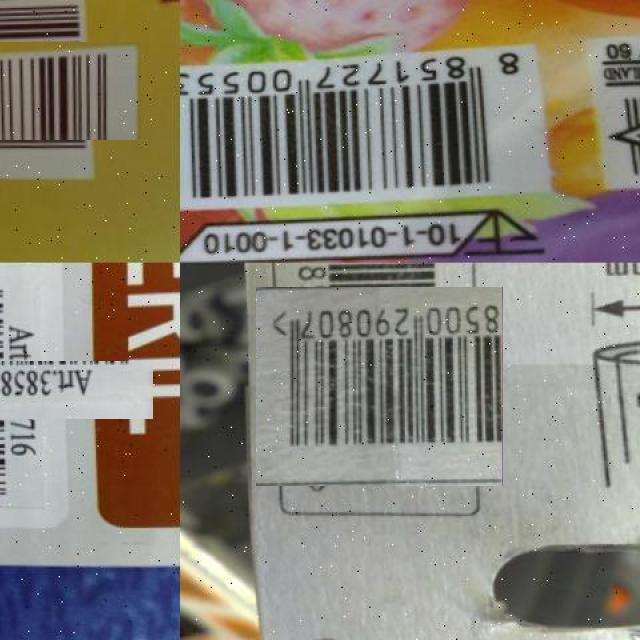Barcode: (180, 47, 549, 205), (268, 275, 491, 498), (0, 22, 120, 162), (0, 313, 106, 467)
